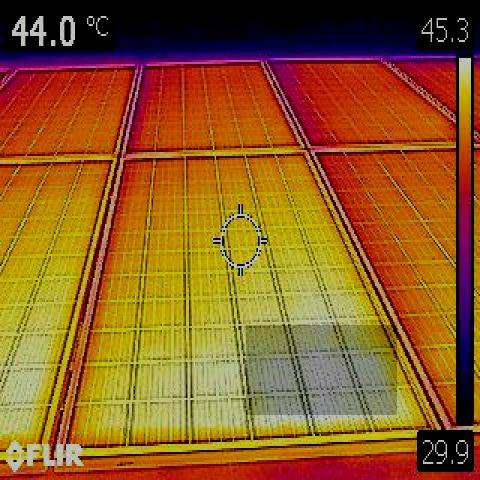fault: (246, 325, 397, 415)
